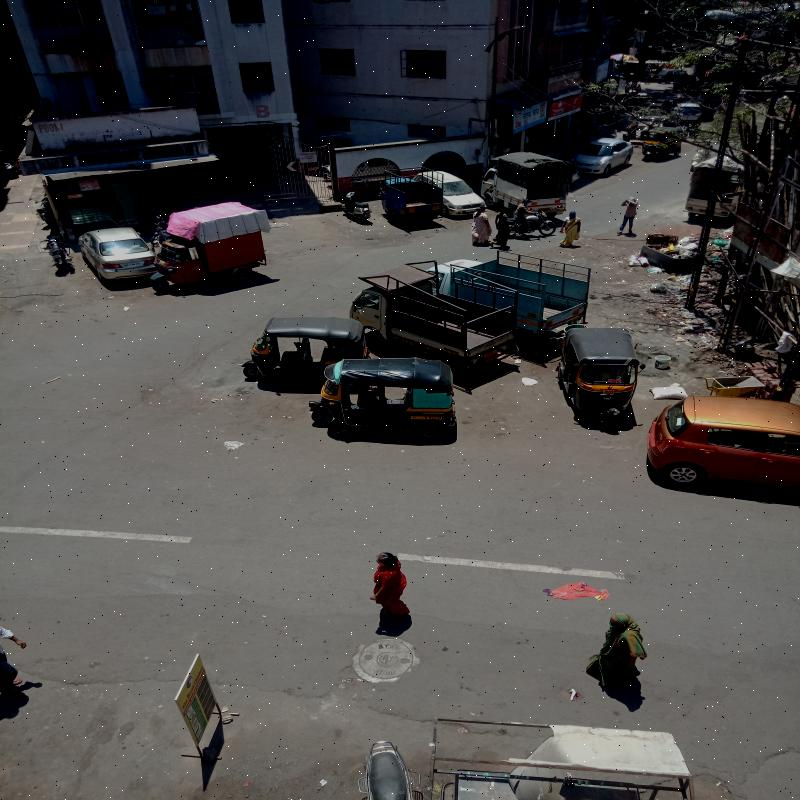auto: (316, 360, 468, 434), (563, 324, 630, 431)
